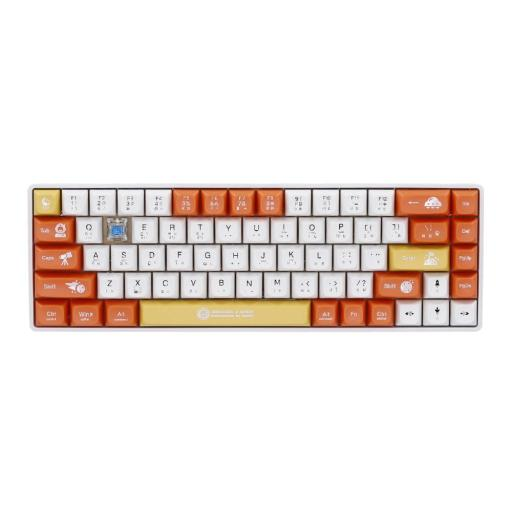keyboard: (24, 172, 495, 341)
